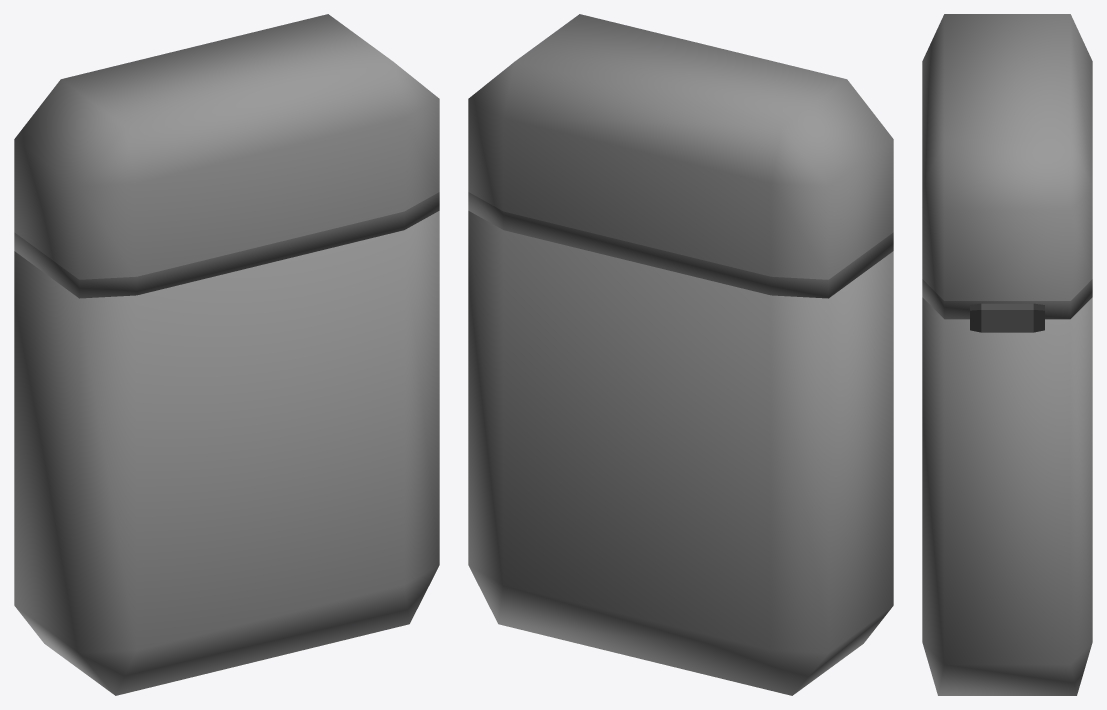
File: ZippoLighter.fbx
3 renders of one model, left to right at view 1: azimuth 30°, elevation 25°; view 2: azimuth 150°, elevation 25°; view 3: azimuth 270°, elevation 25°, orthographic. The views are drawn at different scales.
Parts seen in each view (by area): view 1: Zippo, ZippoTop; view 2: Zippo, ZippoTop; view 3: Zippo, ZippoTop.
Boxes of the visible parts, x1=… form: Zippo: x1=14, y1=211, x2=439, y2=695; ZippoTop: x1=14, y1=14, x2=439, y2=298; Zippo: x1=468, y1=211, x2=893, y2=695; ZippoTop: x1=468, y1=14, x2=893, y2=298; Zippo: x1=922, y1=297, x2=1092, y2=695; ZippoTop: x1=922, y1=14, x2=1092, y2=319.
Bounding box in the file's own units: 0.1194 × 0.1721 × 0.0484.
